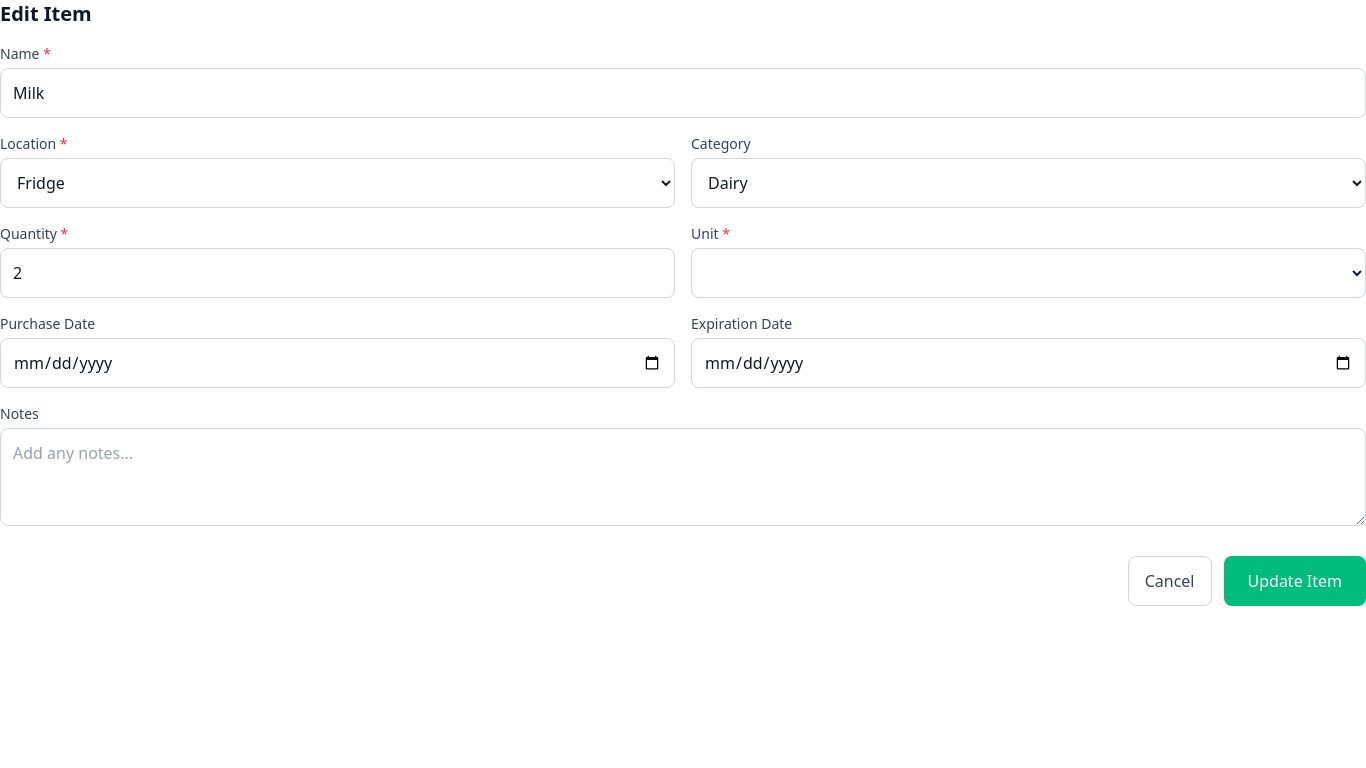
ItemForm › opens remove confirm on edit when quantity is negative
Replace the text in the number field labelled "Quantity *" with "-1" at (338, 273), box x1=0 y1=248 x2=675 y2=298
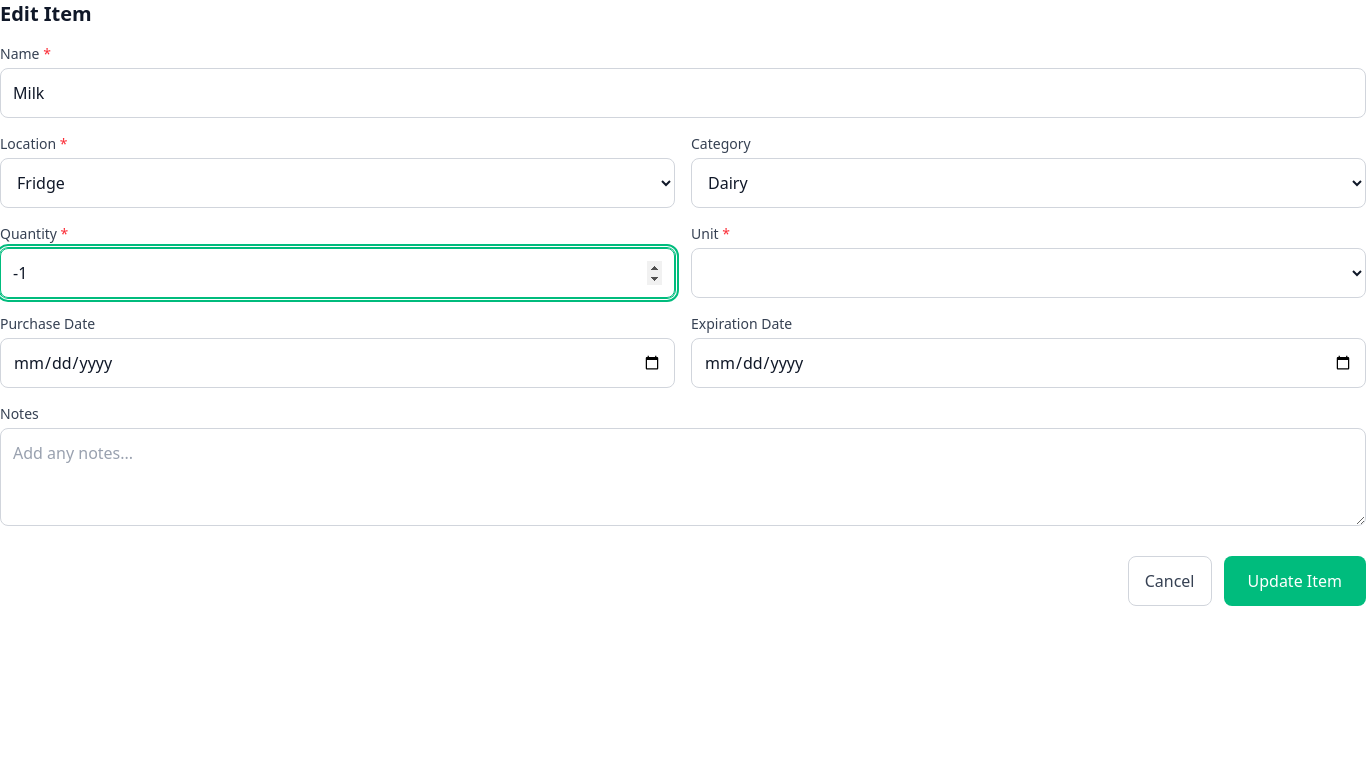
Click the button "Update Item".
click(1295, 581)  # box x1=1224 y1=556 x2=1365 y2=606
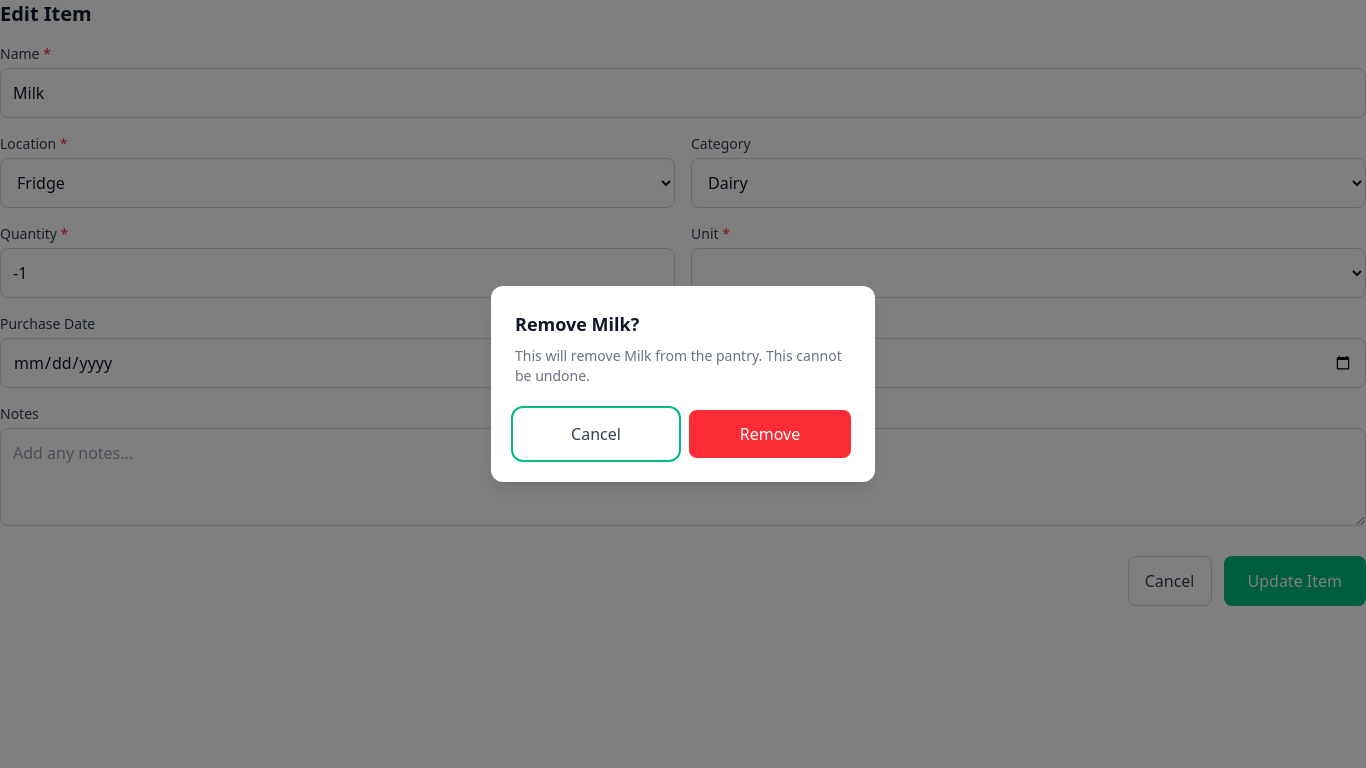
Result: the dialog shows "Remove Milk?" at x1=515 y1=312 x2=639 y2=336
